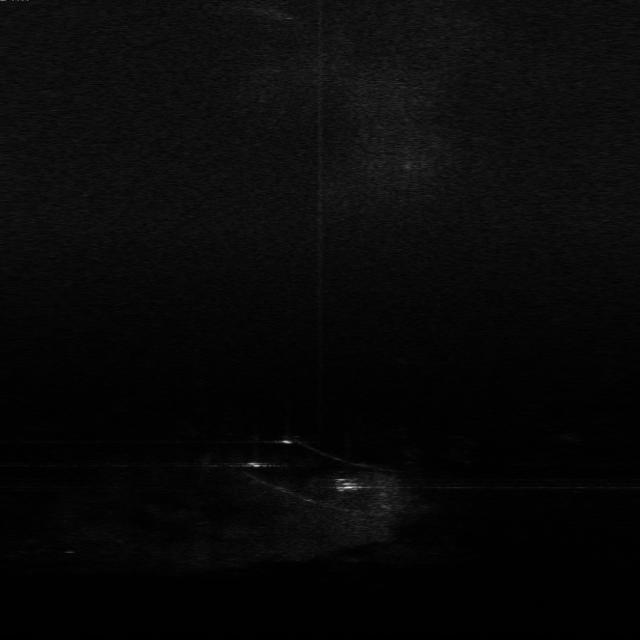rov: (333, 474, 366, 494)
